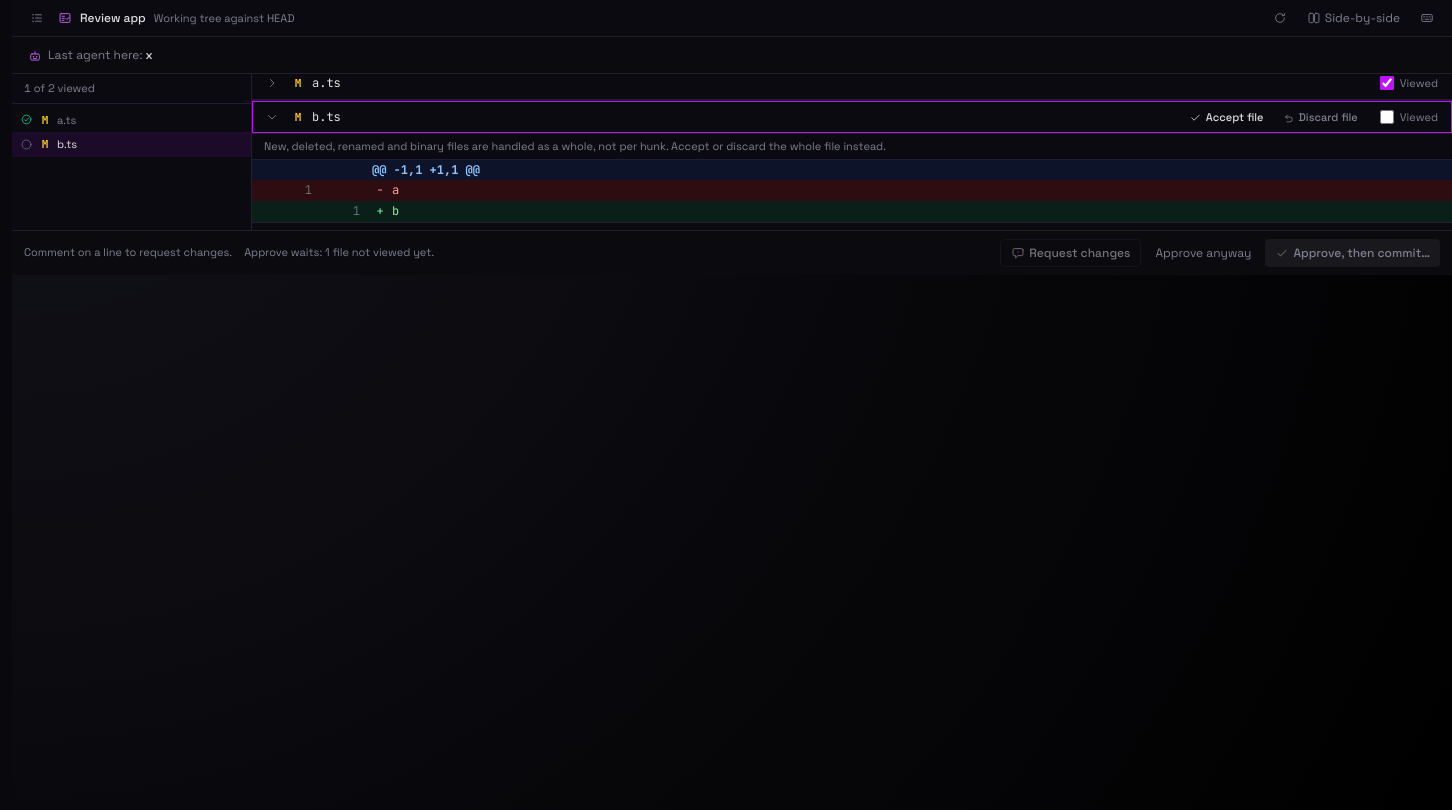
Test: Approve reads the changes again first › refuses while an agent is still running in the repo, Approve anyway included
Click the button with test id "review-approve-anyway" at (1203, 252), box [1147,238,1259,266]
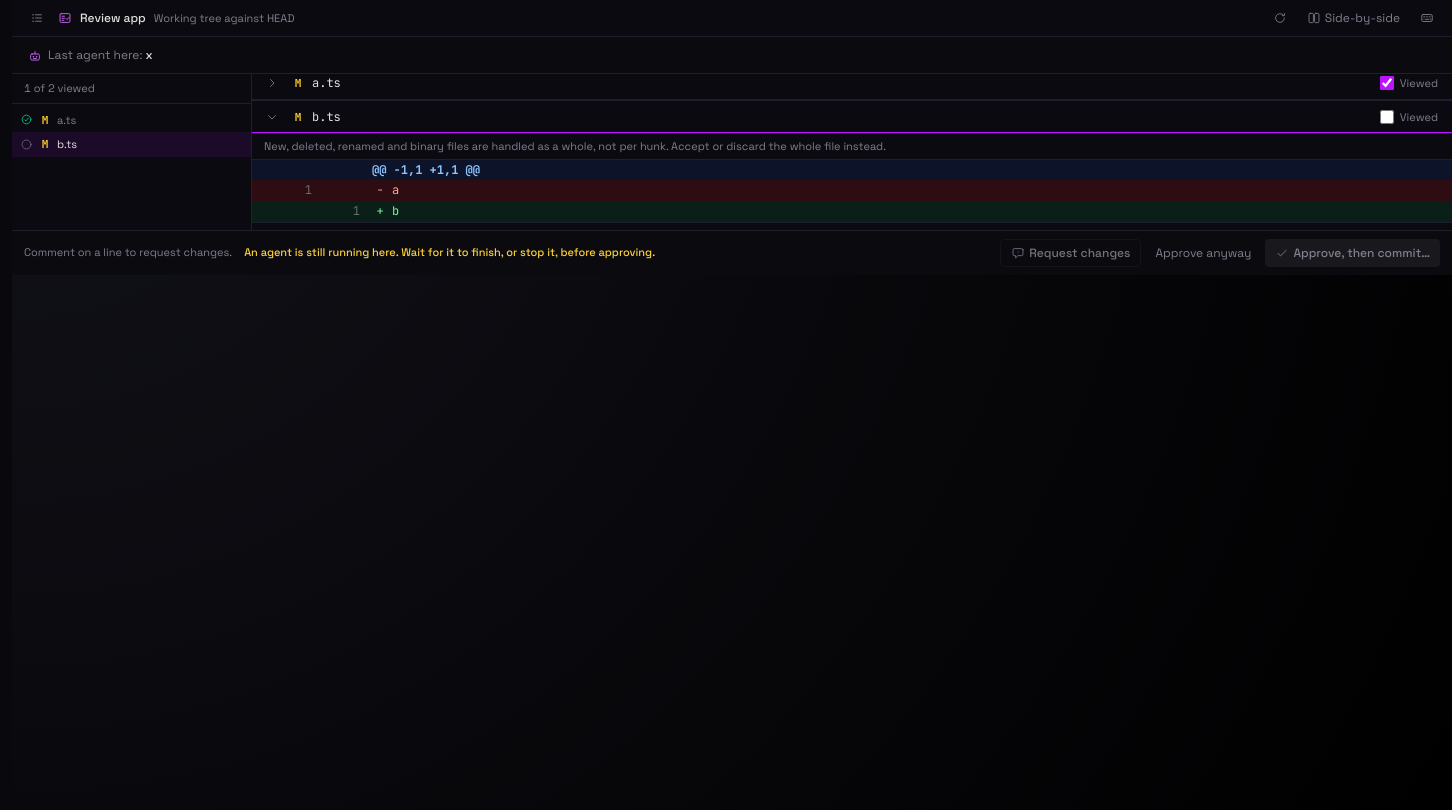
Check: the message with test id "review-approve-refusal" shows "An agent is still running here", box [244,245,655,259]
